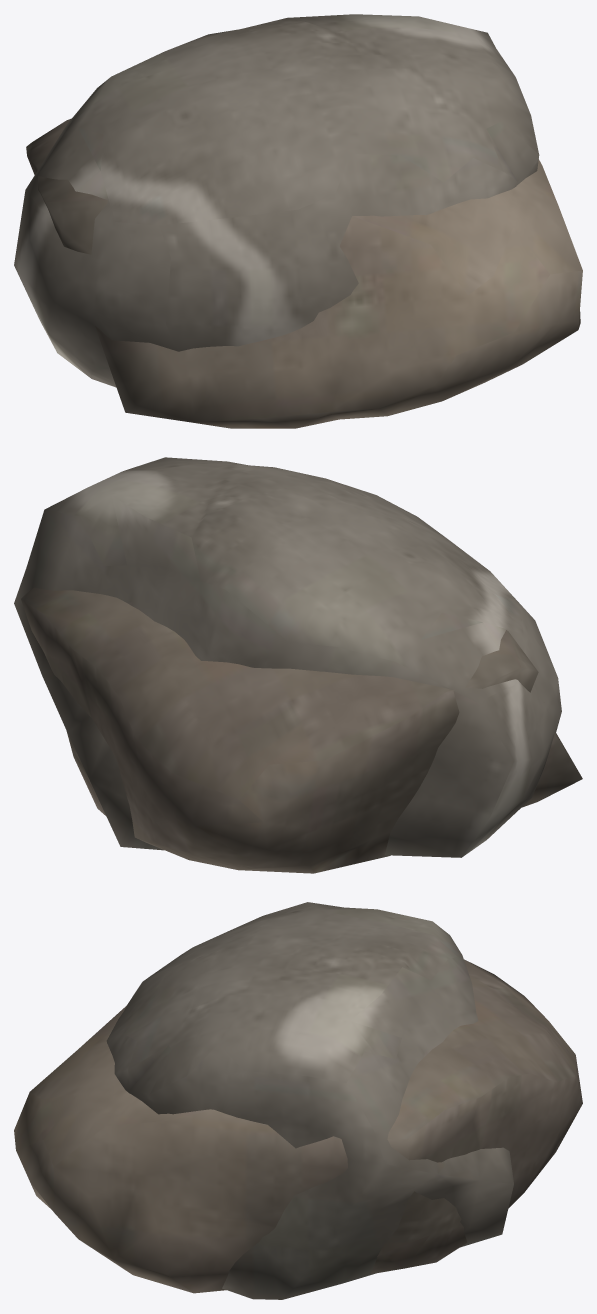
3 views of the same model, one above another, from view 1: azimuth 30°, elevation 25°; view 2: azimuth 150°, elevation 25°; view 3: azimuth 270°, elevation 25° (orthographic). The views are drawn at different scales.
Parts seen in each view (by area): view 1: variant_0, variant_2; view 2: variant_0, variant_2; view 3: variant_0, variant_2.
Part boxes in pixels (x1,y1,x2,y2): variant_0: (14,14,539,387); variant_2: (26,118,582,428); variant_0: (14,457,561,857); variant_2: (21,587,582,873); variant_0: (106,902,513,1299); variant_2: (14,959,582,1293).
Bounding box in the file's own units: 0.2688 × 0.1511 × 0.2878.
1 material, 1 textured.
